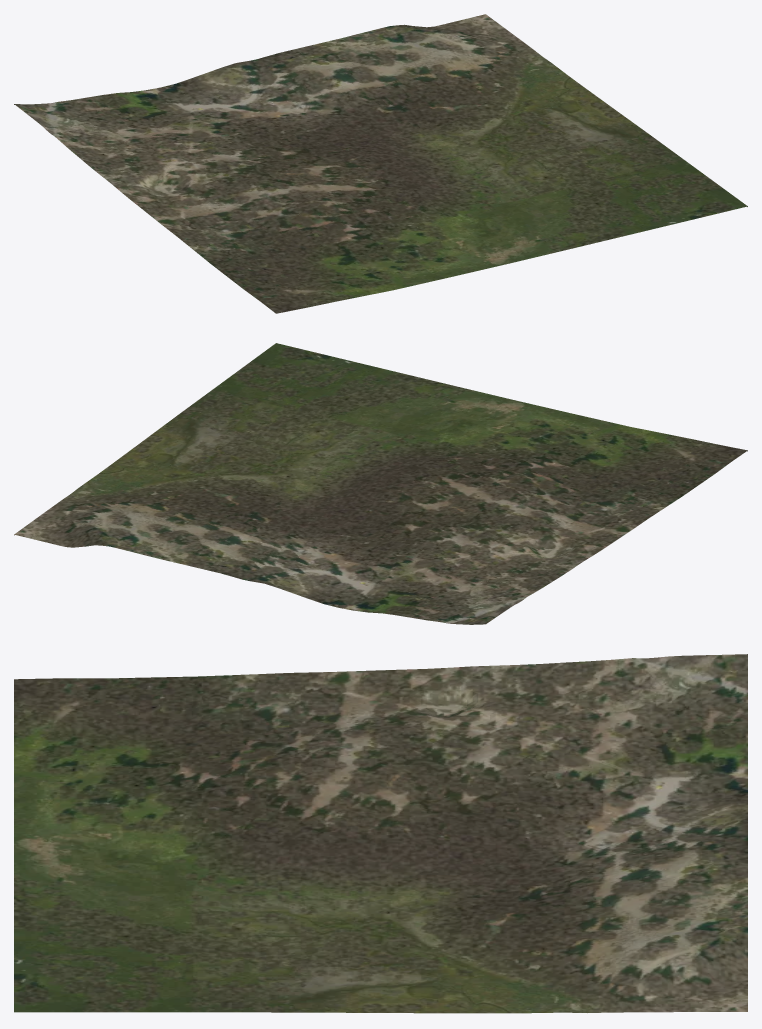
3 renders of one model, top to bottom at view 1: azimuth 30°, elevation 25°; view 2: azimuth 150°, elevation 25°; view 3: azimuth 270°, elevation 25°, orthographic. The views are drawn at different scales.
Bounding box in the file's own units: 500 × 27.81 × 481.
Materials: 1 (1 with a texture image).
